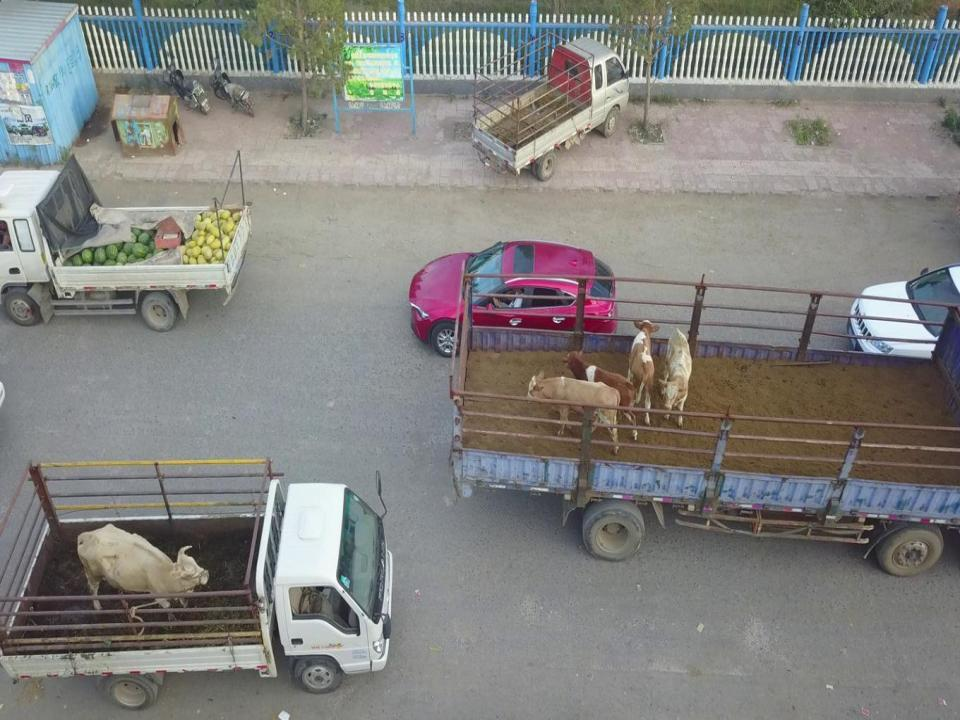car: (407, 238, 619, 362), (845, 249, 960, 381)
truck: (438, 266, 960, 579), (0, 450, 397, 710), (0, 148, 254, 334), (469, 34, 630, 182)
